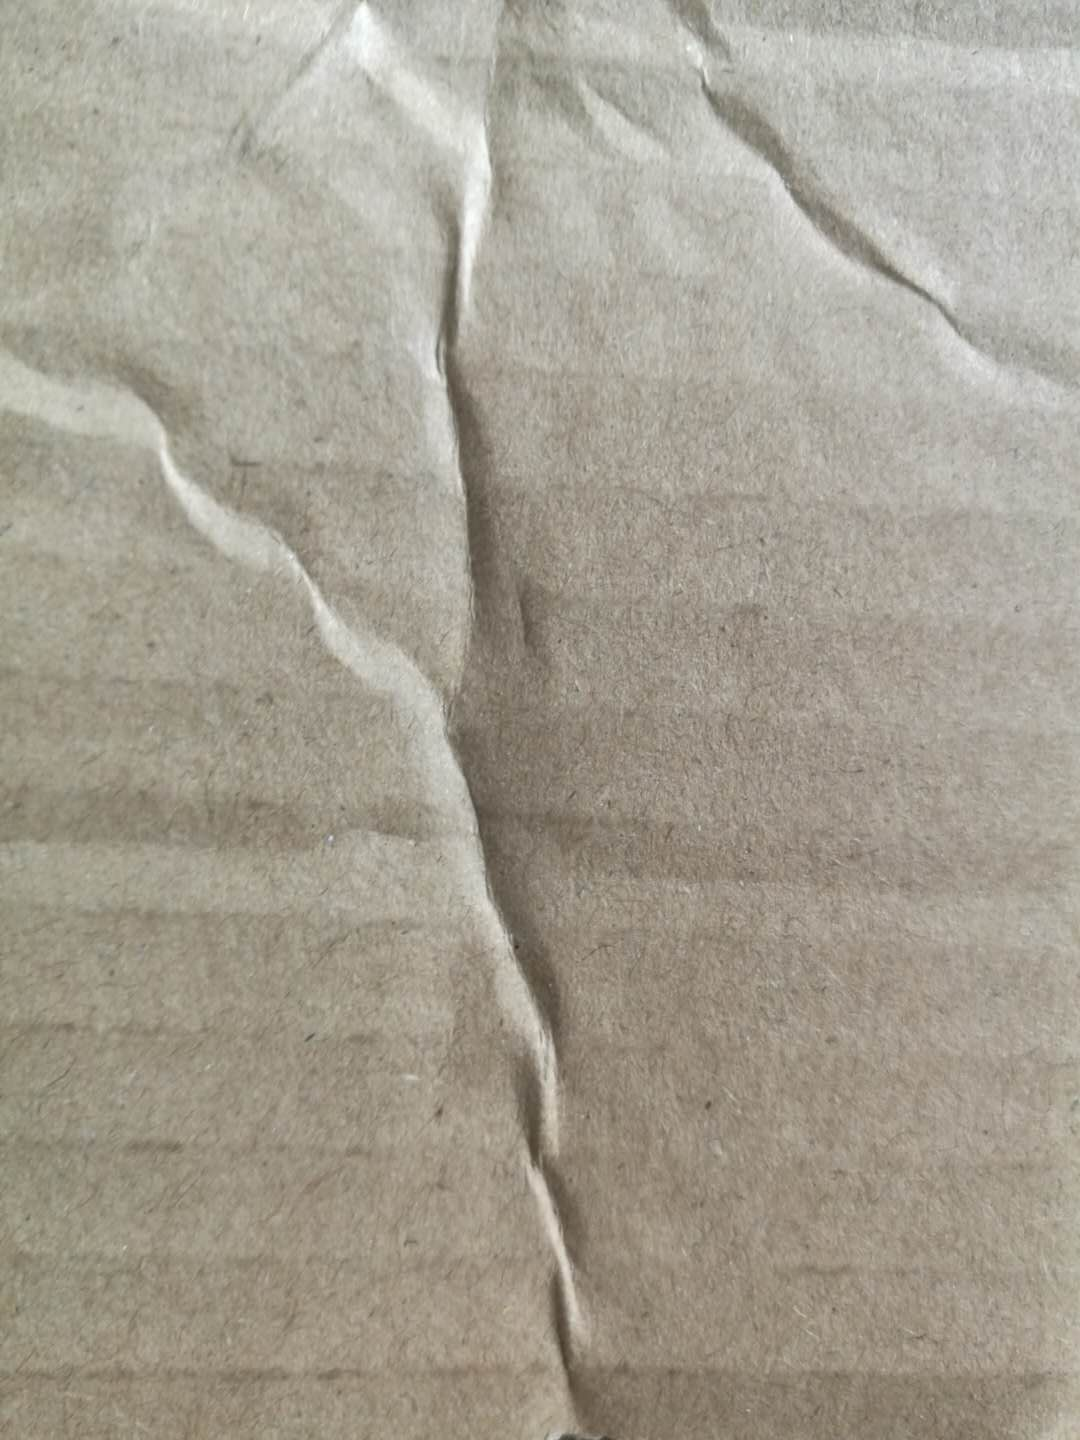defect: (6, 8, 1078, 1440)
